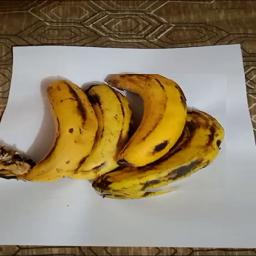Banana Semifresh: (23, 75, 227, 199)
